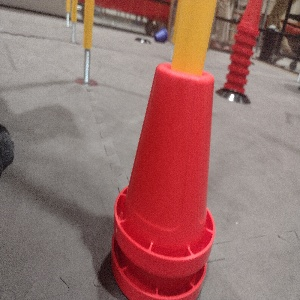Red_2: (111, 52, 216, 299)
